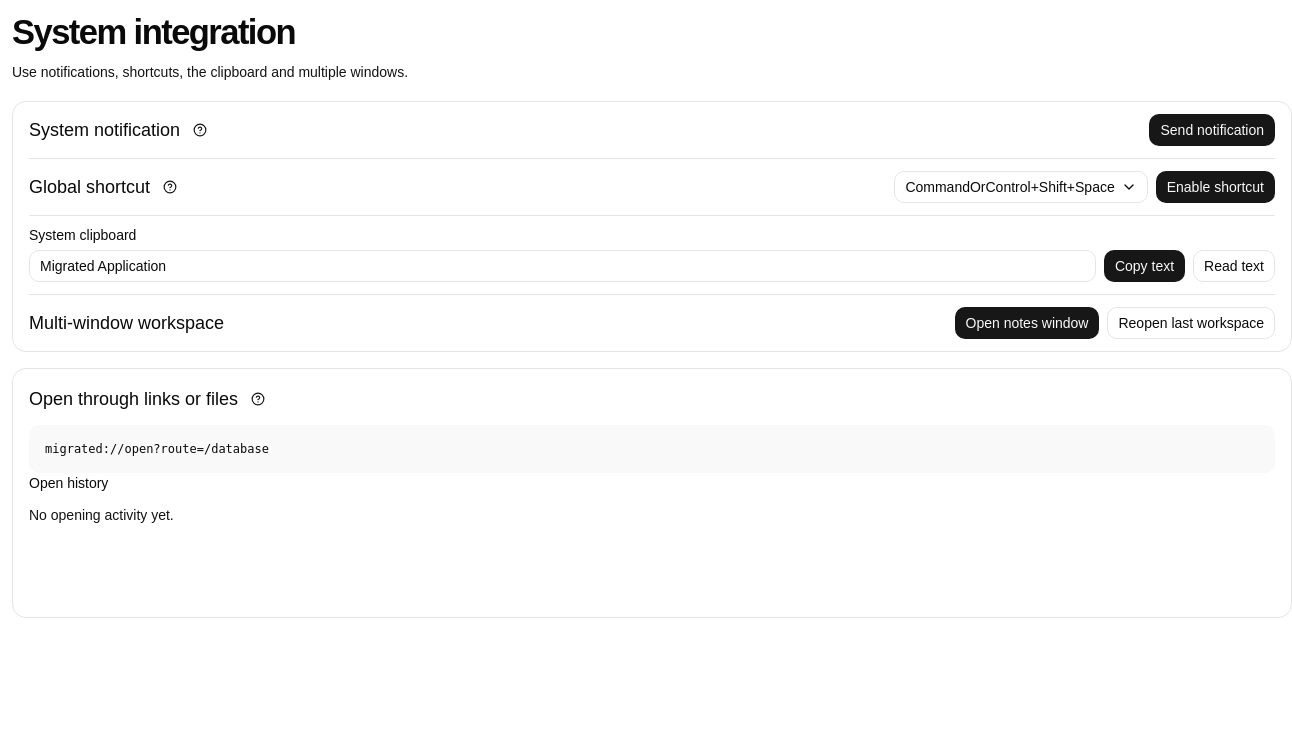
system integration lifecycle › reports shortcut cleanup failures without an unhandled rejection
What coordinates should you click on to do the following:
click the button "Enable shortcut"
I would click on:
 (1215, 187)
Its box is [1156,171,1275,203].
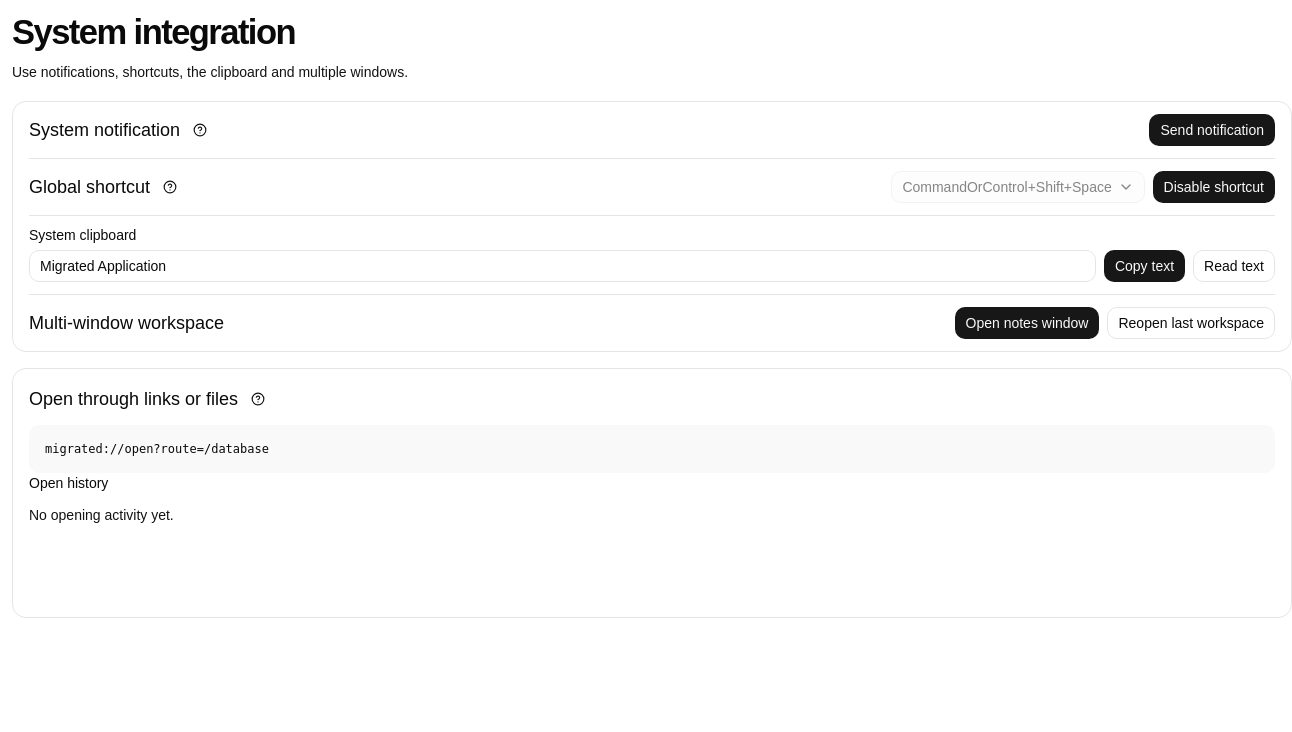
Result: the button "Disable shortcut" is shown at [1153,171,1275,203]
